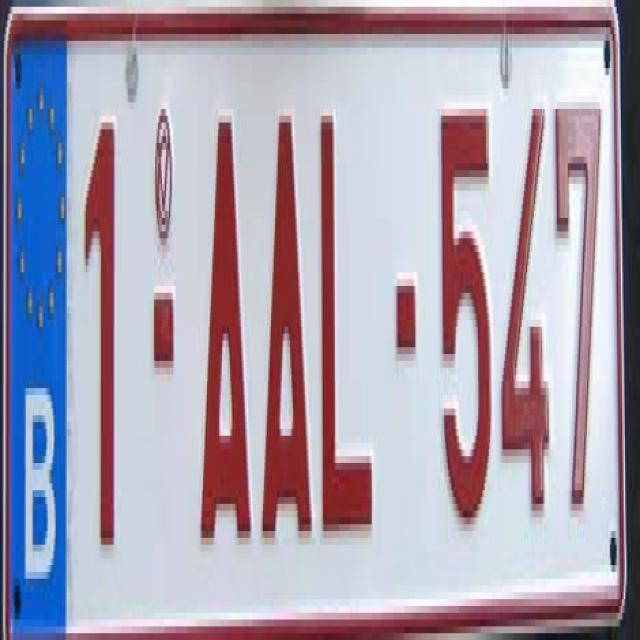Belgique: (6, 32, 69, 633)
EU: (3, 9, 625, 633)
